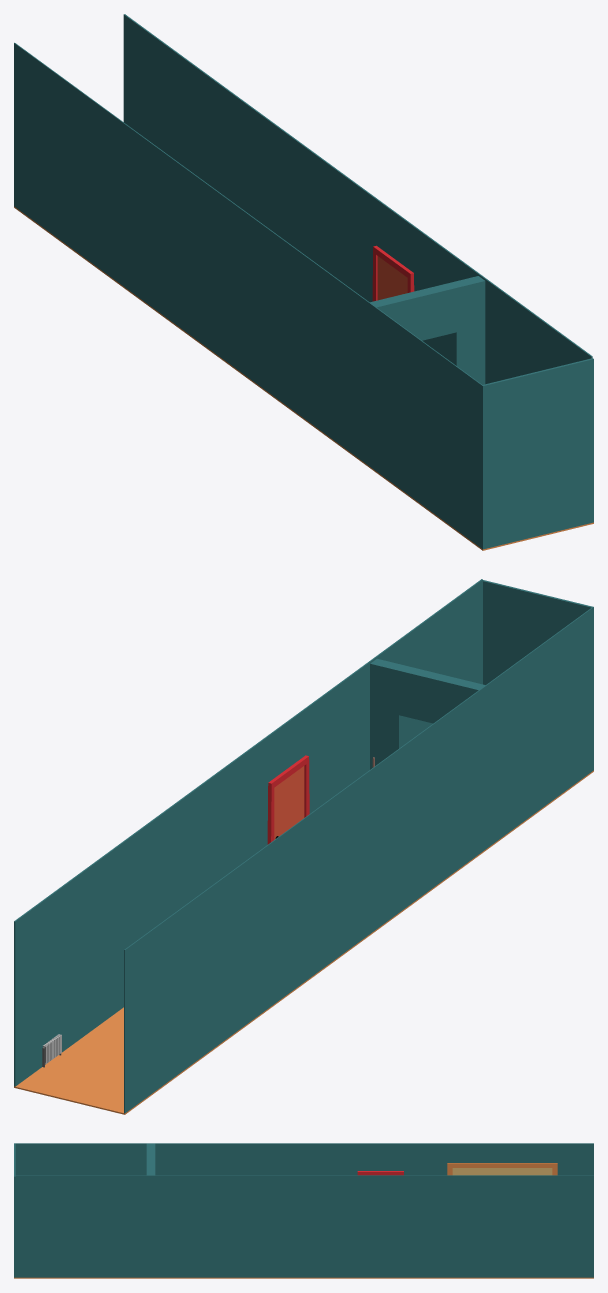
File: Hallway.fbx
The picture shows the model from 3 angles, top to bottom: view 1: azimuth 30°, elevation 25°; view 2: azimuth 150°, elevation 25°; view 3: azimuth 270°, elevation 25°; orthographic projection. The views are drawn at different scales.
Parts seen in each view (by area): view 1: Cube.009, Cube.012, Cube.013, Cube.014; view 2: Cube.009, Cube.012, Cube.013, Cube.014; view 3: Cube.012, Cube.009, Ventana, Cube.013, Puerta.
Part boxes in pixels (x1=…): Cube.009: x1=14, y1=42, x2=485, y2=548; Cube.012: x1=123, y1=14, x2=592, y2=384; Cube.013: x1=14, y1=206, x2=593, y2=550; Cube.014: x1=372, y1=245, x2=414, y2=301; Cube.009: x1=124, y1=608, x2=592, y2=1113; Cube.012: x1=14, y1=579, x2=482, y2=1086; Cube.013: x1=14, y1=580, x2=593, y2=1114; Cube.014: x1=267, y1=755, x2=309, y2=844; Cube.012: x1=15, y1=1175, x2=593, y2=1277; Cube.009: x1=15, y1=1143, x2=593, y2=1175; Ventana: x1=447, y1=1163, x2=557, y2=1175; Cube.013: x1=14, y1=1143, x2=593, y2=1278; Puerta: x1=357, y1=1171, x2=403, y2=1175.
Size of the model in its own units: 339 by 486 by 2479.
